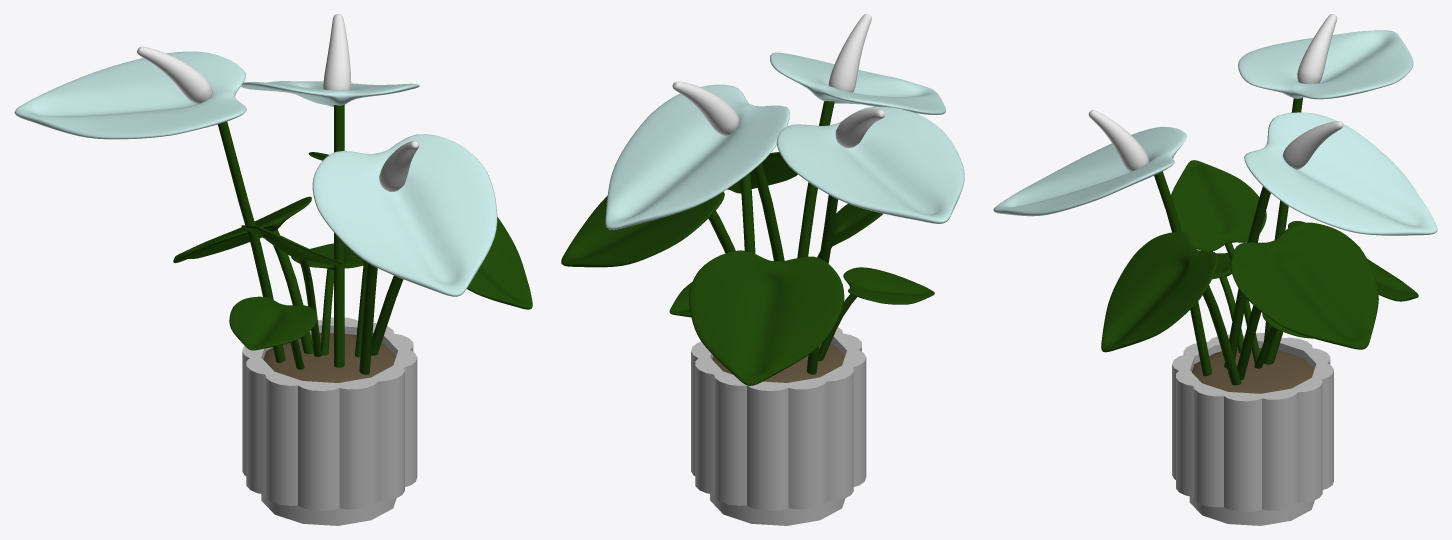
File: Anthurium.fbx
The picture shows the model from 3 angles, left to right: view 1: azimuth 30°, elevation 25°; view 2: azimuth 150°, elevation 25°; view 3: azimuth 270°, elevation 25°; orthographic projection. The views are drawn at different scales.
Parts seen in each view (by area): view 1: polySurface360; view 2: polySurface360; view 3: polySurface360.
Part boxes in pixels (box(x1,y1,x2,y2)): polySurface360: box(14, 14, 532, 525); polySurface360: box(561, 14, 964, 525); polySurface360: box(993, 14, 1437, 525).
Size of the model in its own units: 19.79 by 21.2 by 20.35.
